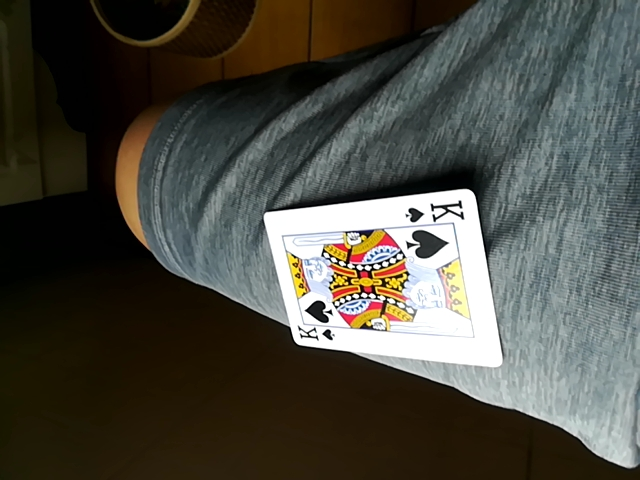ht k: (261, 187, 501, 367)
